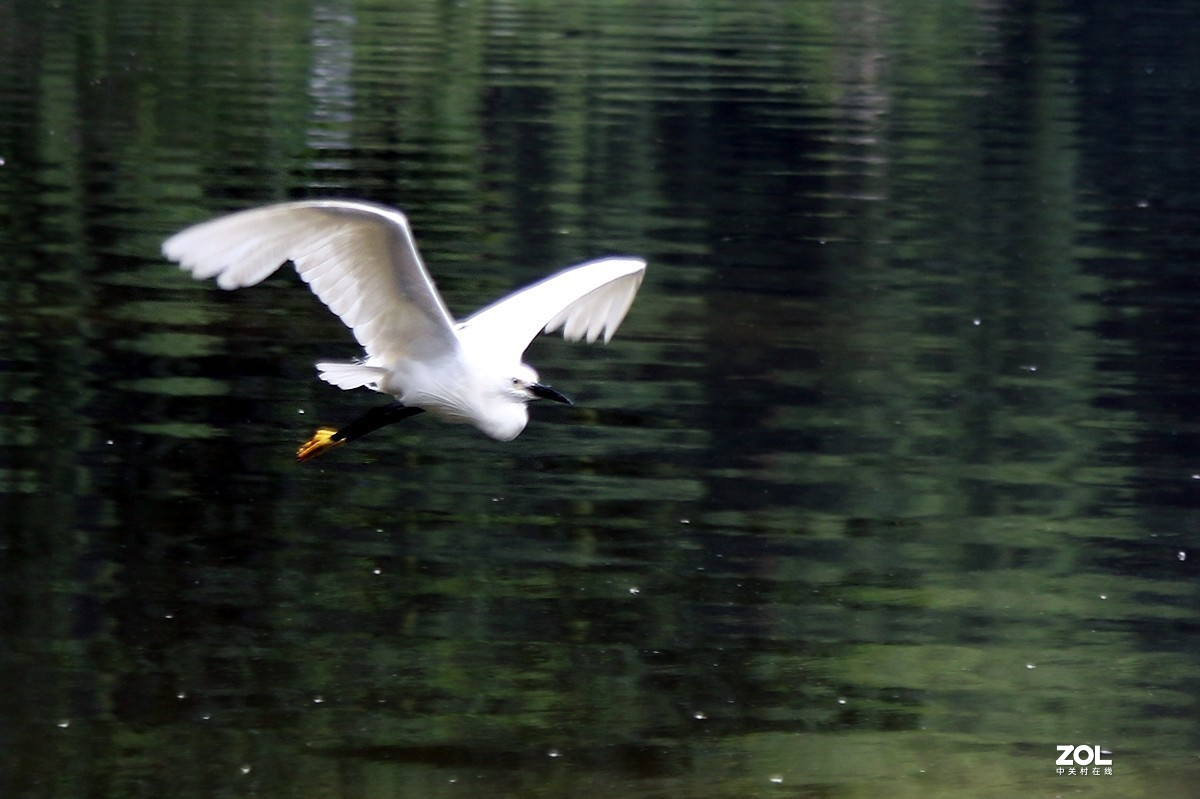bird: (159, 189, 649, 466)
